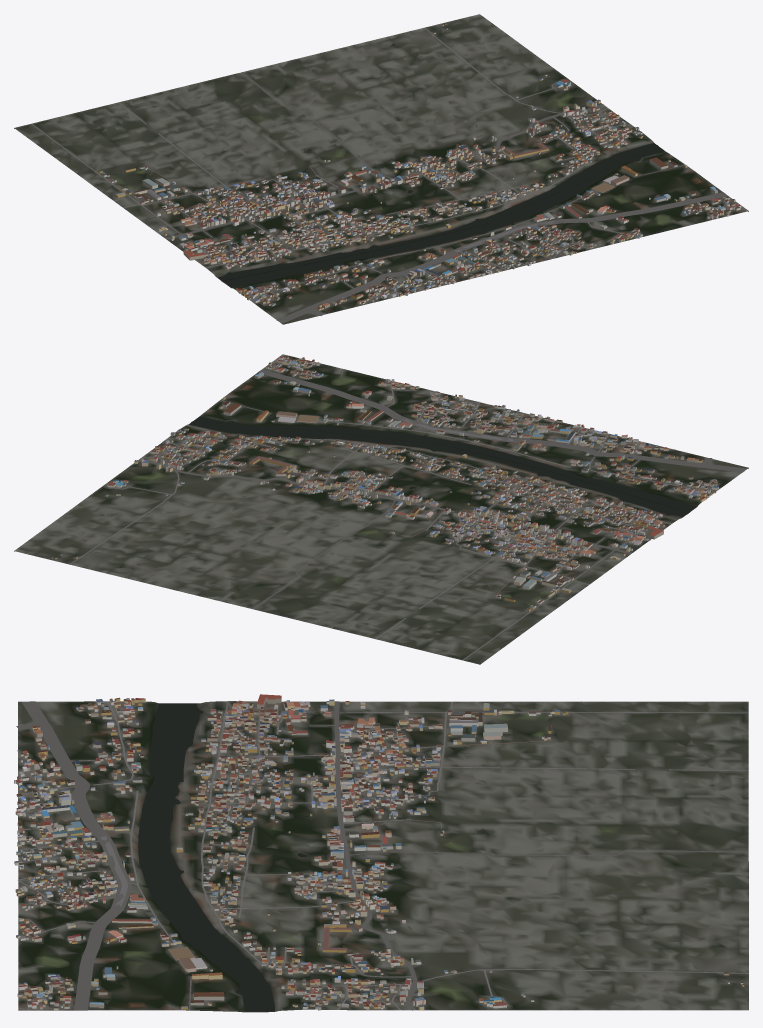
3 renders of one model, top to bottom at view 1: azimuth 30°, elevation 25°; view 2: azimuth 150°, elevation 25°; view 3: azimuth 270°, elevation 25°, orthographic. The views are drawn at different scales.
Visible parts, largest first — view 1: ground, buildings, roads, water; view 2: ground, buildings, roads, water; view 3: ground, buildings, roads, water.
Boxes of the visible parts, x1,y1,x2,y2 form: ground: [14, 14, 748, 324]; buildings: [98, 23, 741, 310]; roads: [31, 27, 744, 323]; water: [218, 143, 664, 287]; ground: [14, 354, 748, 664]; buildings: [51, 356, 718, 611]; roads: [69, 357, 746, 660]; water: [189, 416, 696, 516]; ground: [18, 701, 748, 1012]; buildings: [14, 694, 744, 1010]; roads: [16, 701, 748, 1010]; water: [138, 703, 307, 1011].
Size of the model in its own units: 1417 by 24.21 by 1410.
